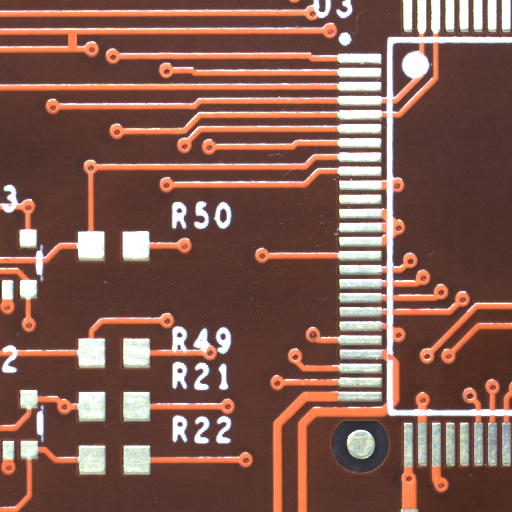Short: (72, 40, 86, 58)
